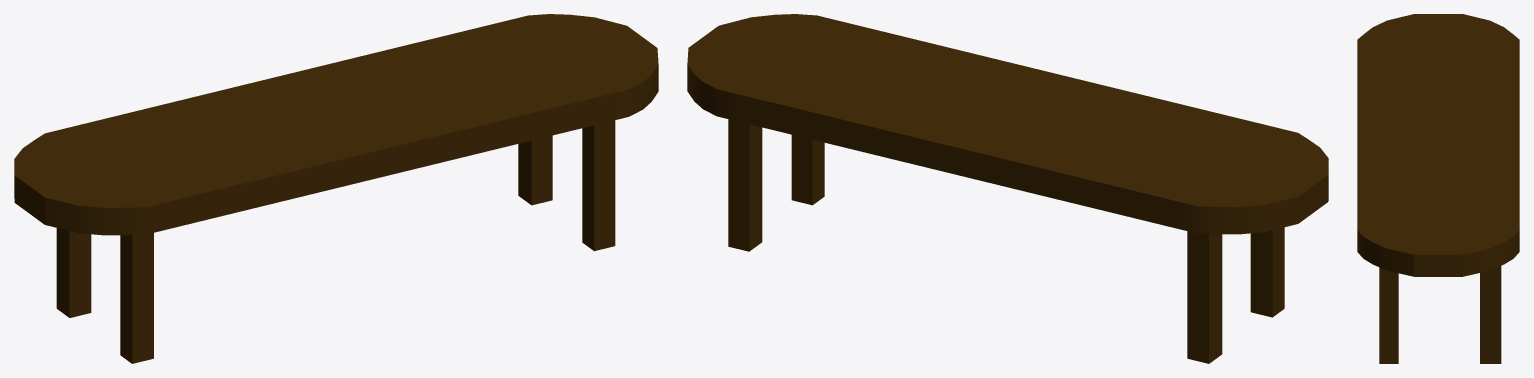
The model's file is Coffee Table.fbx.
3 views of the same model, side by side, from view 1: azimuth 30°, elevation 25°; view 2: azimuth 150°, elevation 25°; view 3: azimuth 270°, elevation 25° (orthographic). The views are drawn at different scales.
Visible parts, largest first — view 1: pCube15; view 2: pCube15; view 3: pCube15.
Boxes of the visible parts, box(x1,y1,x2,y2) form: pCube15: box(14, 14, 658, 363); pCube15: box(687, 14, 1328, 363); pCube15: box(1357, 14, 1519, 363).
Size of the model in its own units: 19 by 4.94 by 5.42.
